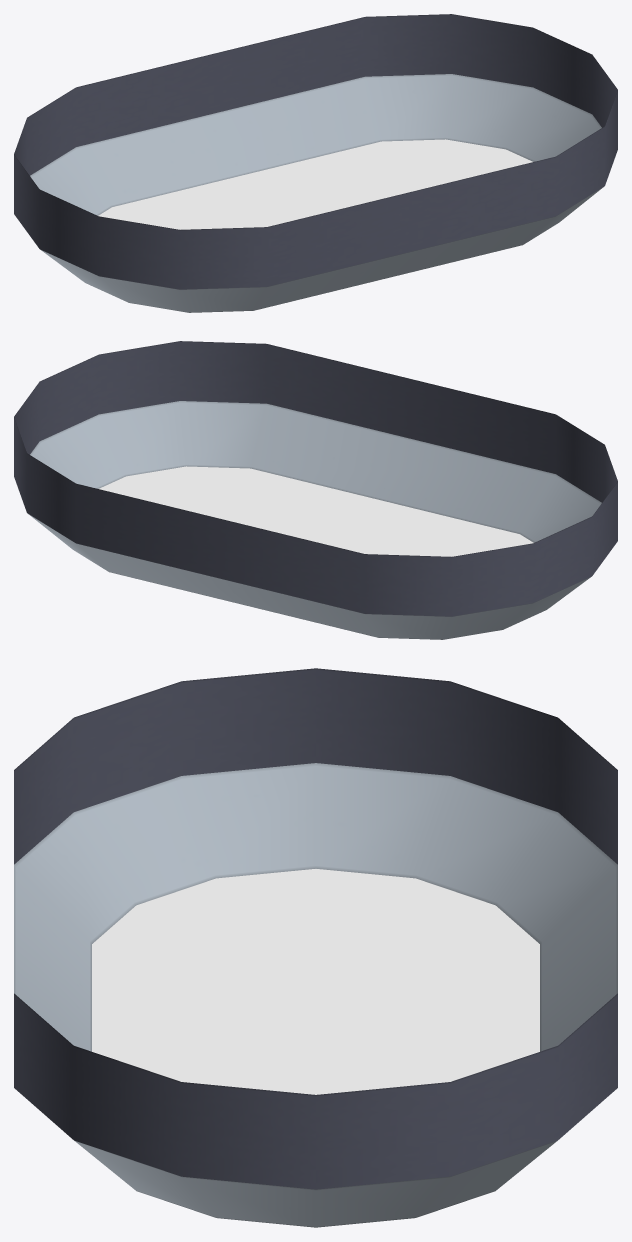
The model's file is Light_01.FBX.
The picture shows the model from 3 angles, top to bottom: view 1: azimuth 30°, elevation 25°; view 2: azimuth 150°, elevation 25°; view 3: azimuth 270°, elevation 25°; orthographic projection. The views are drawn at different scales.
Visible parts, largest first — view 1: Light_01; view 2: Light_01; view 3: Light_01.
Part boxes in pixels (<box>): Light_01: <box>14,14,617,312</box>; Light_01: <box>14,341,617,639</box>; Light_01: <box>14,668,617,1227</box>.
Bounding box in the file's own units: 0.3032 × 0.0548 × 0.1814.
1 material, 1 textured.
